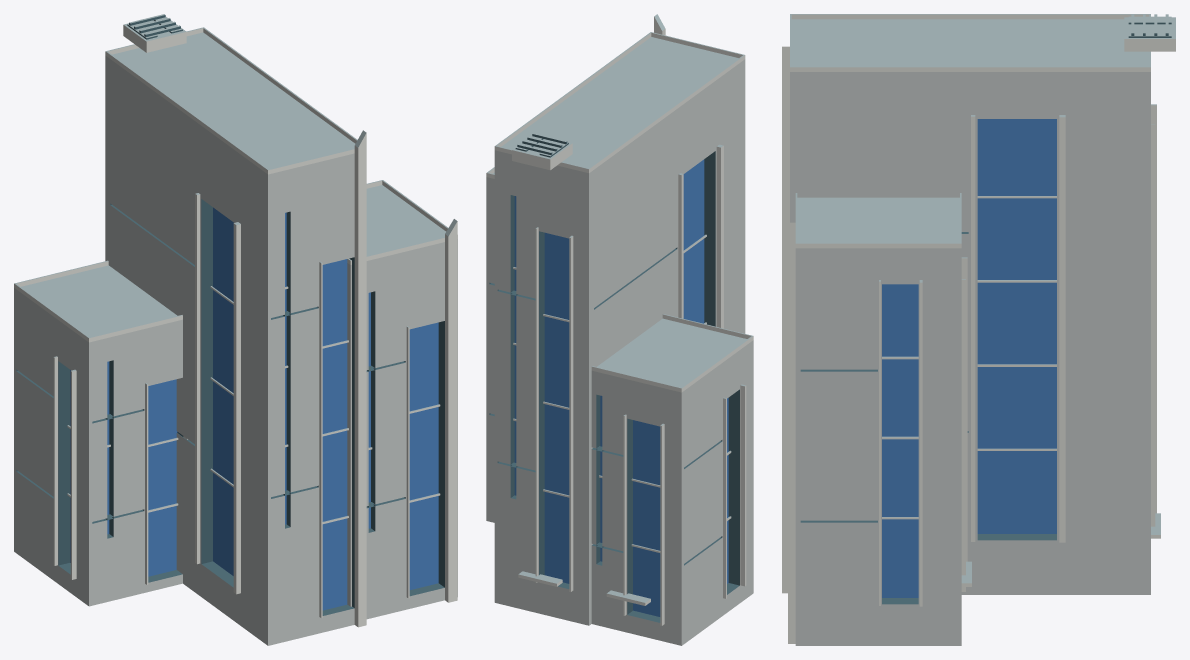
File: 22_Campusfluegel.obj
3 views of the same model, side by side, from view 1: azimuth 30°, elevation 25°; view 2: azimuth 150°, elevation 25°; view 3: azimuth 270°, elevation 25° (orthographic). The views are drawn at different scales.
Bounding box in the file's own units: 0.628 × 1 × 0.6526.
